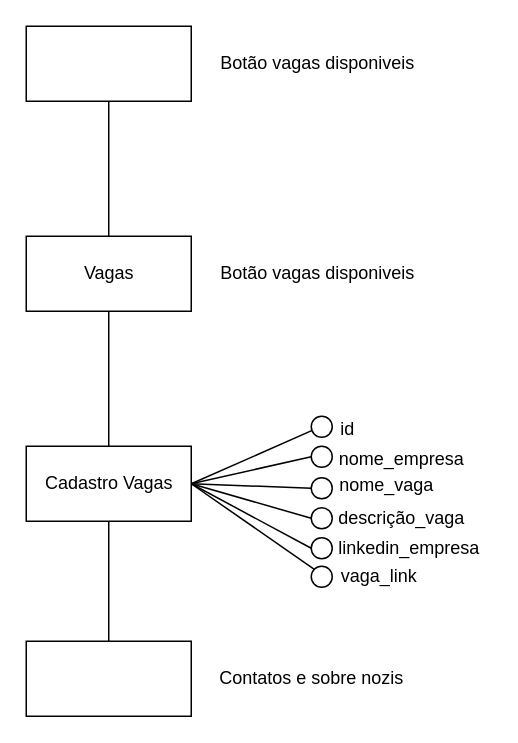
Image size: 518x743. Some labels were removed from this diagram. Each missing label, with the box of its shape:
Contatos: (25, 640, 191, 716)
Home: (25, 25, 191, 101)
